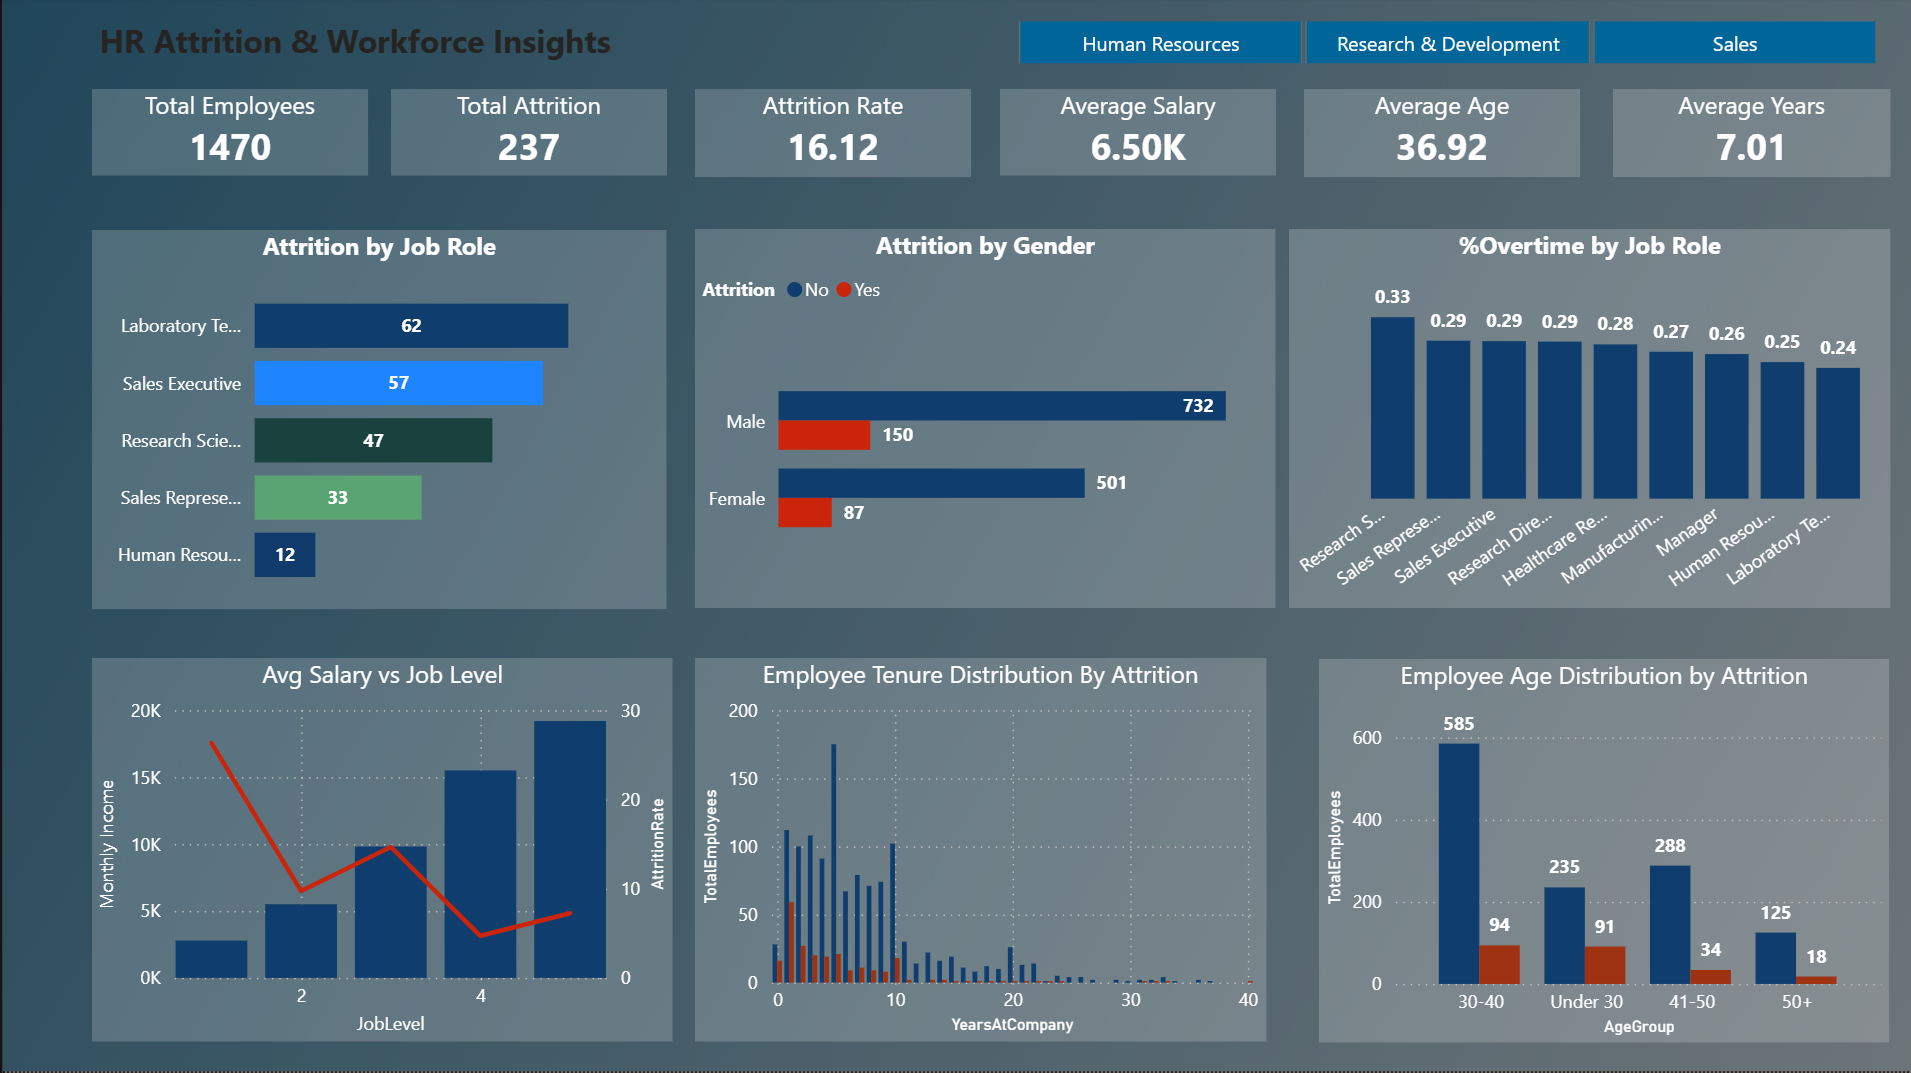

Layout of this report page (visuals, bound fields, positions):
{"tool":"powerbi","page":{"name":"HR attrition","canvas":[1280,720],"ordinal":0},"visuals":[{"type":"card","title":"Total Employees","fields":{"Values":["HR_DATA.TotalEmployees"]},"box":[59.7,61.4,184.9,57.9],"z":0},{"type":"card","title":"Attrition Rate","fields":{"Values":["HR_DATA.AttritionRate"]},"box":[463.6,61.4,184.9,58.8],"z":1000},{"type":"card","title":"Average Salary","fields":{"Values":["HR_DATA.AvgMonthlyIncome"]},"box":[668.1,61.4,184.9,57.9],"z":2000},{"type":"clusteredBarChart","title":"Attrition by Gender","fields":{"Category":["HR_DATA.Gender"],"Y":["HR_DATA.TotalEmployees"],"Series":["HR_DATA.Attrition"]},"box":[463.7,155.6,389.4,253.7],"z":3000},{"type":"barChart","title":"Attrition by Job Role","fields":{"Category":["HR_DATA.JobRole"],"Series":["HR_DATA.JobRole"],"Y":["Sum(HR_DATA.AttritionFlag)"]},"box":[59.7,156,385.2,254],"z":4000},{"type":"card","title":"Total Attrition","fields":{"Values":["HR_DATA.TotalAttrition"]},"box":[259.9,61.4,184.9,57.9],"z":5000},{"type":"card","title":"Average Years ","fields":{"Values":["HR_DATA.AvgYearsAtCompany"]},"box":[1078.9,61.4,185.8,58.8],"z":6000},{"type":"textbox","box":[59.8,9.2,543.4,42.2],"z":7000},{"type":"card","title":"Average Age","fields":{"Values":["HR_DATA.Average Age"]},"box":[871.8,61.4,184.9,58.8],"z":8000},{"type":"clusteredColumnChart","title":"%Overtime by Job Role","fields":{"Y":["HR_DATA.PercentOverTime"],"Category":["HR_DATA.JobRole"]},"box":[861.5,155.6,403.2,253.7],"z":9000},{"type":"lineClusteredColumnComboChart","title":"Avg Salary vs Job Level","fields":{"Y":["HR_DATA.AvgMonthlyIncome"],"Y2":["HR_DATA.AttritionRate"],"Category":["HR_DATA.Job Level Label"]},"box":[59.7,443.1,389.5,257.4],"z":10000},{"type":"clusteredColumnChart","title":"Employee Tenure Distribution By Attrition","fields":{"Category":["HR_DATA.YearsAtCompany"],"Y":["HR_DATA.TotalEmployees"],"Series":["HR_DATA.Attrition"]},"box":[463.6,443.1,382.6,256.5],"z":11000},{"type":"slicer","fields":{"Values":["HR_DATA.Department"]},"box":[654.6,9.2,625.4,42.2],"z":12000},{"type":"clusteredColumnChart","title":"Employee Age Distribution by Attrition","fields":{"Y":["HR_DATA.TotalEmployees"],"Series":["HR_DATA.Attrition"],"Category":["HR_DATA.AgeGroup"]},"box":[882.2,443.8,382.5,256.8],"z":13000}]}

Visuals, with their boxes in screenshot pixels (x1, y1, x2, y2), scaled from the page's 1280x720 canvas onto the 1911x1073 screenshot:
"Total Employees" card: {"x1": 89, "y1": 92, "x2": 365, "y2": 178}
"Attrition Rate" card: {"x1": 692, "y1": 92, "x2": 968, "y2": 179}
"Average Salary" card: {"x1": 997, "y1": 92, "x2": 1274, "y2": 178}
"Attrition by Gender" clusteredBarChart: {"x1": 692, "y1": 232, "x2": 1274, "y2": 610}
"Attrition by Job Role" barChart: {"x1": 89, "y1": 232, "x2": 664, "y2": 611}
"Total Attrition" card: {"x1": 388, "y1": 92, "x2": 664, "y2": 178}
"Average Years " card: {"x1": 1611, "y1": 92, "x2": 1888, "y2": 179}
textbox: {"x1": 89, "y1": 14, "x2": 901, "y2": 77}
"Average Age" card: {"x1": 1302, "y1": 92, "x2": 1578, "y2": 179}
"%Overtime by Job Role" clusteredColumnChart: {"x1": 1286, "y1": 232, "x2": 1888, "y2": 610}
"Avg Salary vs Job Level" lineClusteredColumnComboChart: {"x1": 89, "y1": 660, "x2": 671, "y2": 1044}
"Employee Tenure Distribution By Attrition" clusteredColumnChart: {"x1": 692, "y1": 660, "x2": 1263, "y2": 1043}
slicer - HR_DATA.Department: {"x1": 977, "y1": 14, "x2": 1910, "y2": 77}
"Employee Age Distribution by Attrition" clusteredColumnChart: {"x1": 1317, "y1": 661, "x2": 1888, "y2": 1044}
